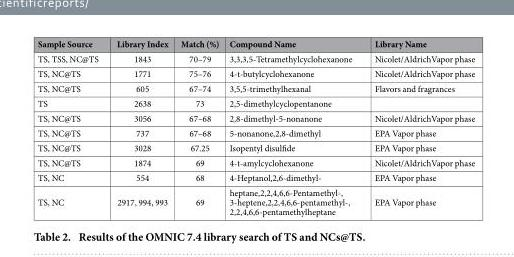table: (36, 37, 474, 217)
table column: (223, 37, 362, 217), (362, 37, 474, 217), (36, 37, 106, 217), (106, 37, 173, 217), (173, 37, 223, 217)
table column header: (36, 37, 474, 50)
table row: (36, 184, 474, 217), (36, 50, 474, 65), (36, 65, 474, 80), (36, 80, 474, 95), (36, 95, 474, 110), (36, 110, 474, 125), (36, 125, 474, 140), (36, 154, 474, 169), (36, 169, 474, 184), (36, 140, 474, 154), (36, 37, 474, 50)
